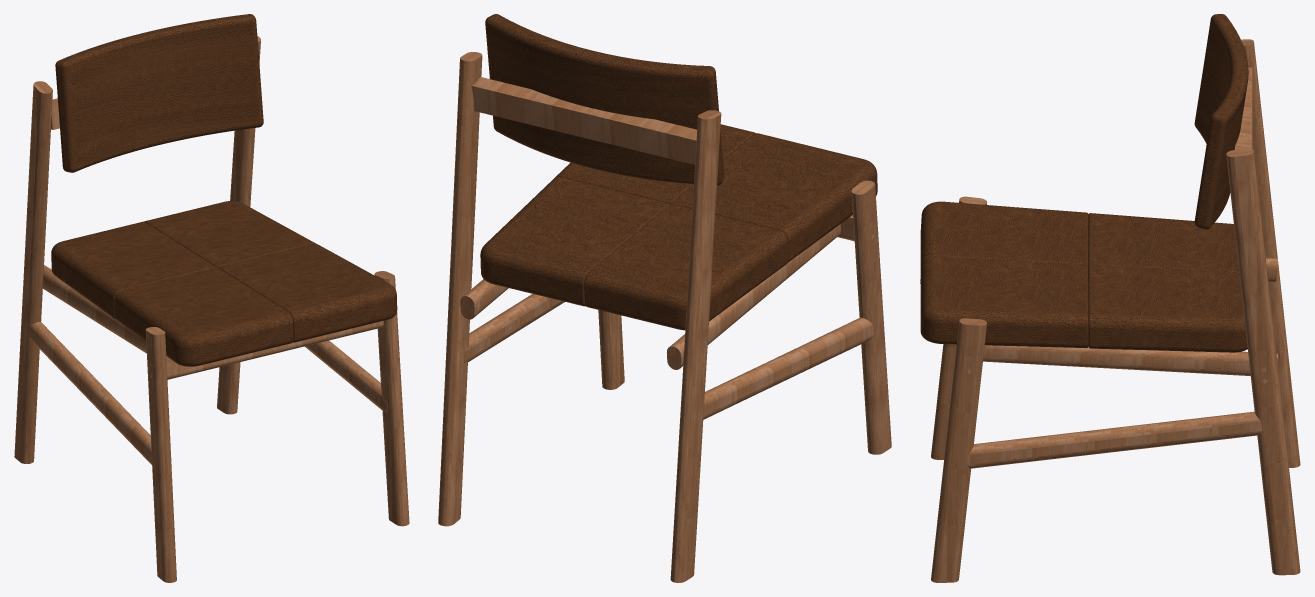
The model's file is origami-cadeira.glb.
The picture shows the model from 3 angles, left to right: view 1: azimuth 30°, elevation 25°; view 2: azimuth 150°, elevation 25°; view 3: azimuth 270°, elevation 25°; orthographic projection. The views are drawn at different scales.
Parts seen in each view (by area): view 1: Geom3D_ (×4); view 2: Geom3D_ (×4); view 3: Geom3D_ (×4), Geom3D.
Boxes of the visible parts, <box> form: Geom3D_ (×4): <box>14,14,409,582</box>; Geom3D_ (×4): <box>438,14,891,582</box>; Geom3D_ (×4): <box>920,14,1300,582</box>; Geom3D: <box>967,412,1261,464</box>.
Bounding box in the file's own units: 0.493 × 0.8058 × 0.6109.
Materials: 3 (3 with a texture image).
